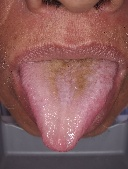tongue: (18, 61, 119, 152)
